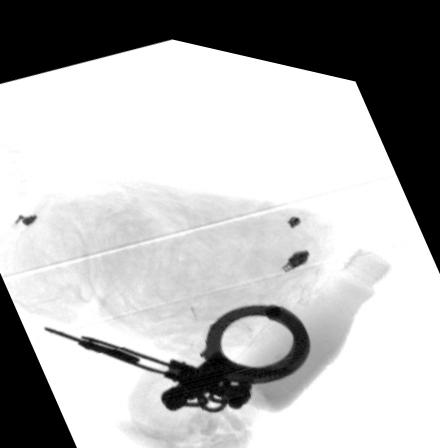HandCuffs: (32, 286, 310, 407)
